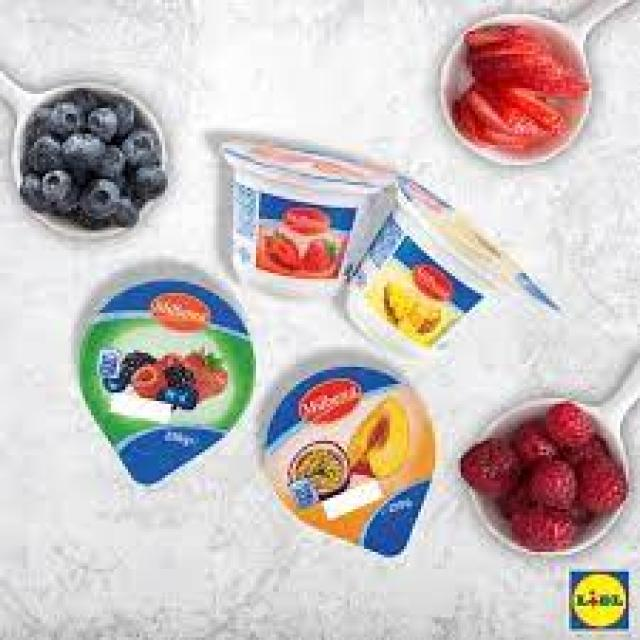yogurt: (345, 174, 561, 357), (75, 278, 257, 488), (265, 363, 436, 558), (218, 139, 395, 296)
